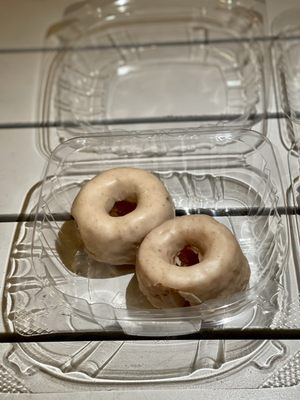salad: (135, 214, 250, 308), (71, 167, 175, 265)
